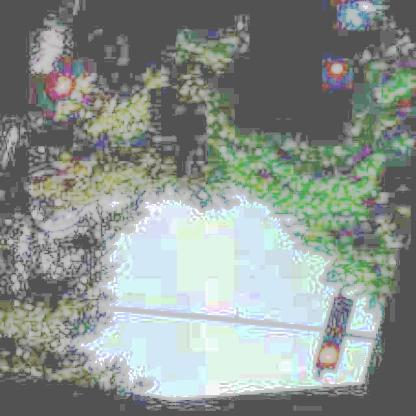Traffic Light -Red-: (47, 22, 92, 103), (312, 301, 356, 381)
